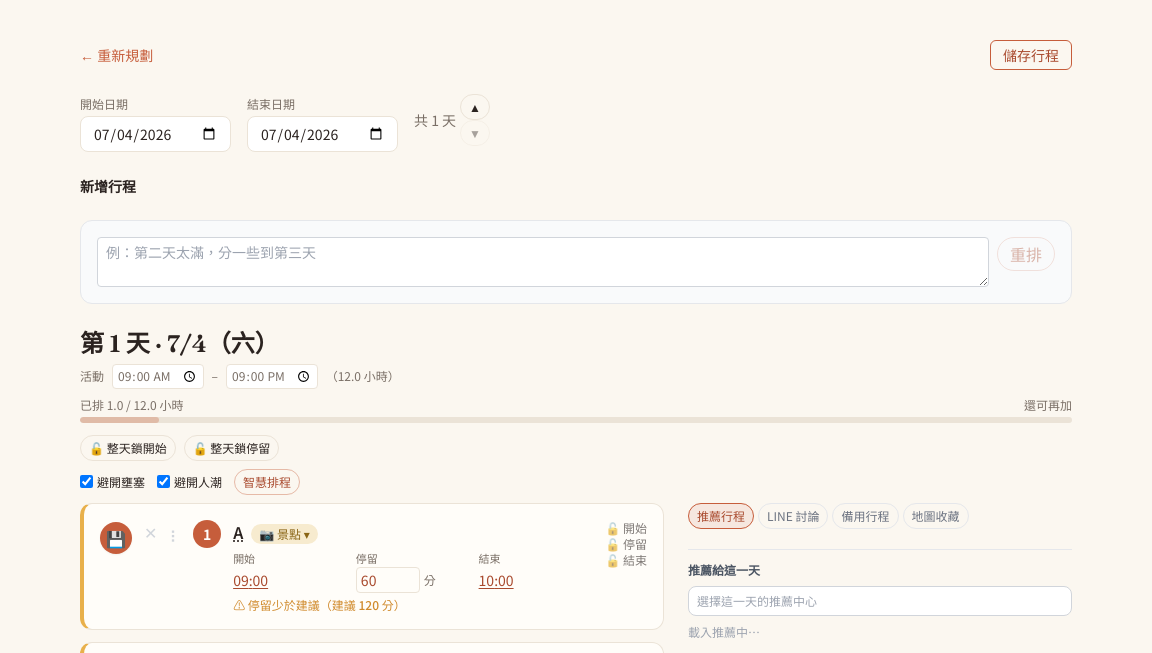
anon mode: 儲存行程 click creates trip without remounting the itinerary
What coordinates should you click on to do the following:
click the button "儲存行程"
I would click on:
 (1031, 55)
Its box is [990,40,1072,70].
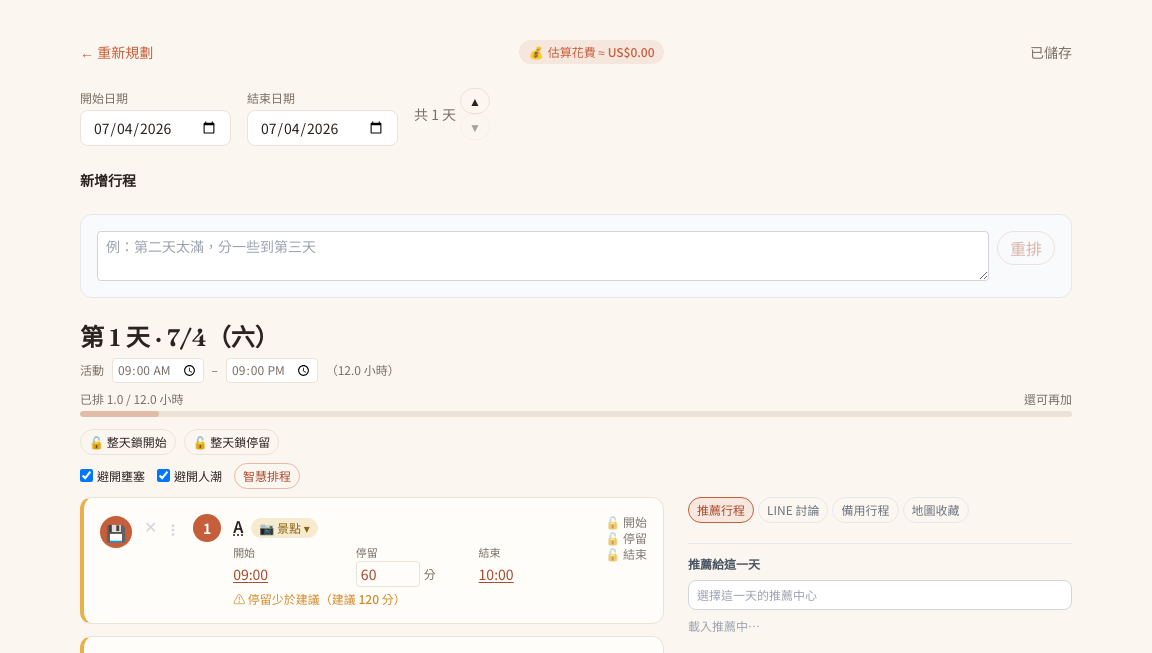
Result: the text "已儲存" is shown at [1030,42,1072,62]
